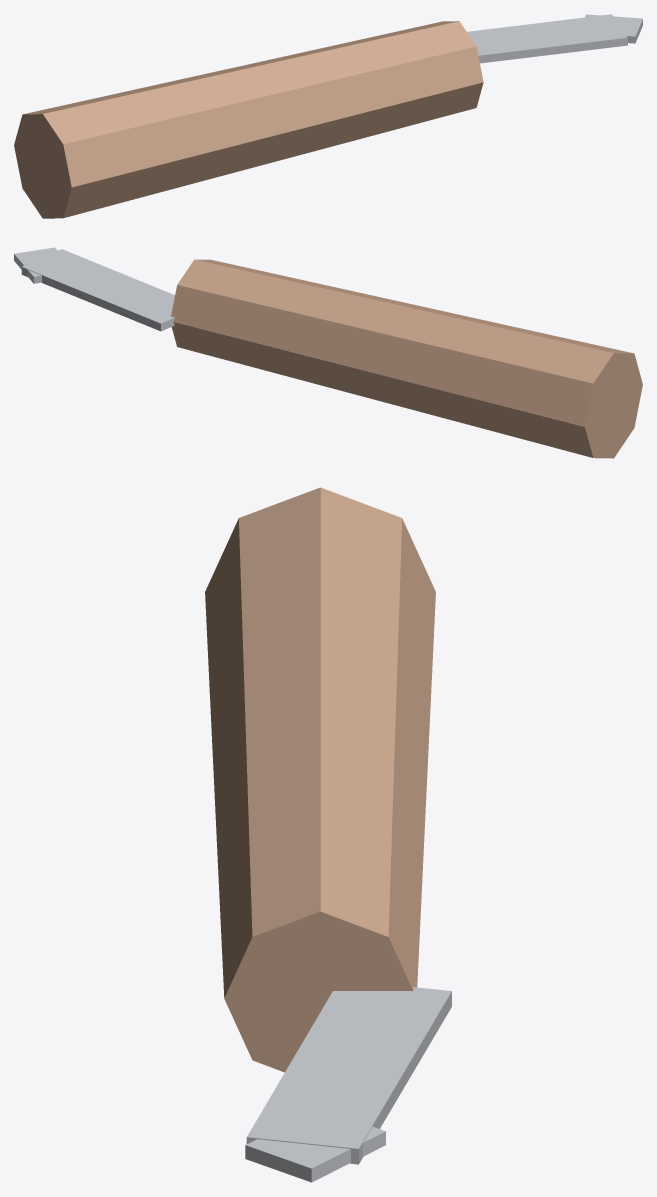
File: prop-chip-carving-knife.fbx
The picture shows the model from 3 angles, top to bottom: view 1: azimuth 30°, elevation 25°; view 2: azimuth 150°, elevation 25°; view 3: azimuth 270°, elevation 25°; orthographic projection. The views are drawn at different scales.
Parts seen in each view (by area): view 1: prop-chip-carving-knife; view 2: prop-chip-carving-knife; view 3: prop-chip-carving-knife.
Part boxes in pixels (x1=…): prop-chip-carving-knife: x1=14, y1=14, x2=642, y2=218; prop-chip-carving-knife: x1=14, y1=247, x2=642, y2=458; prop-chip-carving-knife: x1=205, y1=487, x2=451, y2=1182.
Size of the model in its own units: 14.35 by 2.4 by 2.57.
